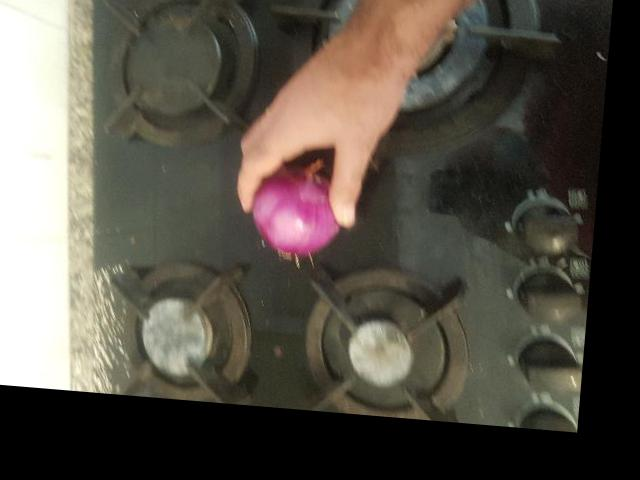onion: (254, 175, 343, 247)
